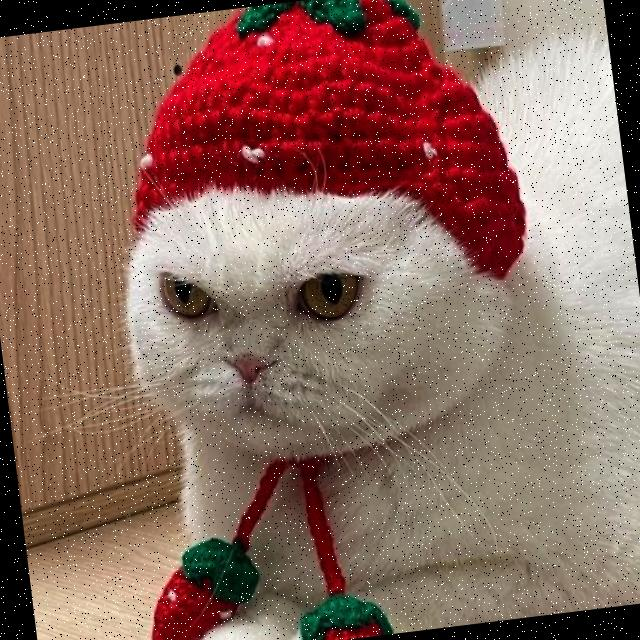Angry: (120, 209, 404, 483)
